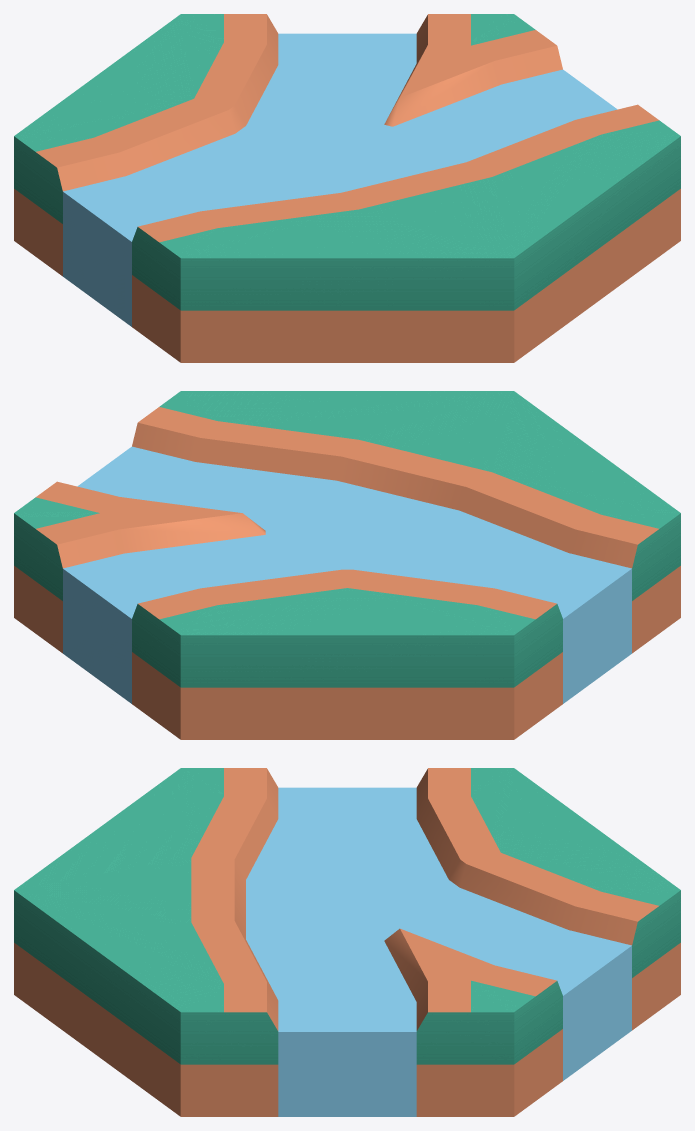
The model's file is river-intersectionB.glb.
3 views of the same model, one above another, from view 1: azimuth 30°, elevation 25°; view 2: azimuth 150°, elevation 25°; view 3: azimuth 270°, elevation 25° (orthographic).
Parts seen in each view (by area): view 1: river-intersectionB; view 2: river-intersectionB; view 3: river-intersectionB.
Part boxes in pixels (<box>): river-intersectionB: <box>14,14,680,362</box>; river-intersectionB: <box>14,391,680,739</box>; river-intersectionB: <box>14,768,680,1116</box>.
Bounding box in the file's own units: 1 × 0.2 × 1.15.
1 material, 1 textured.
